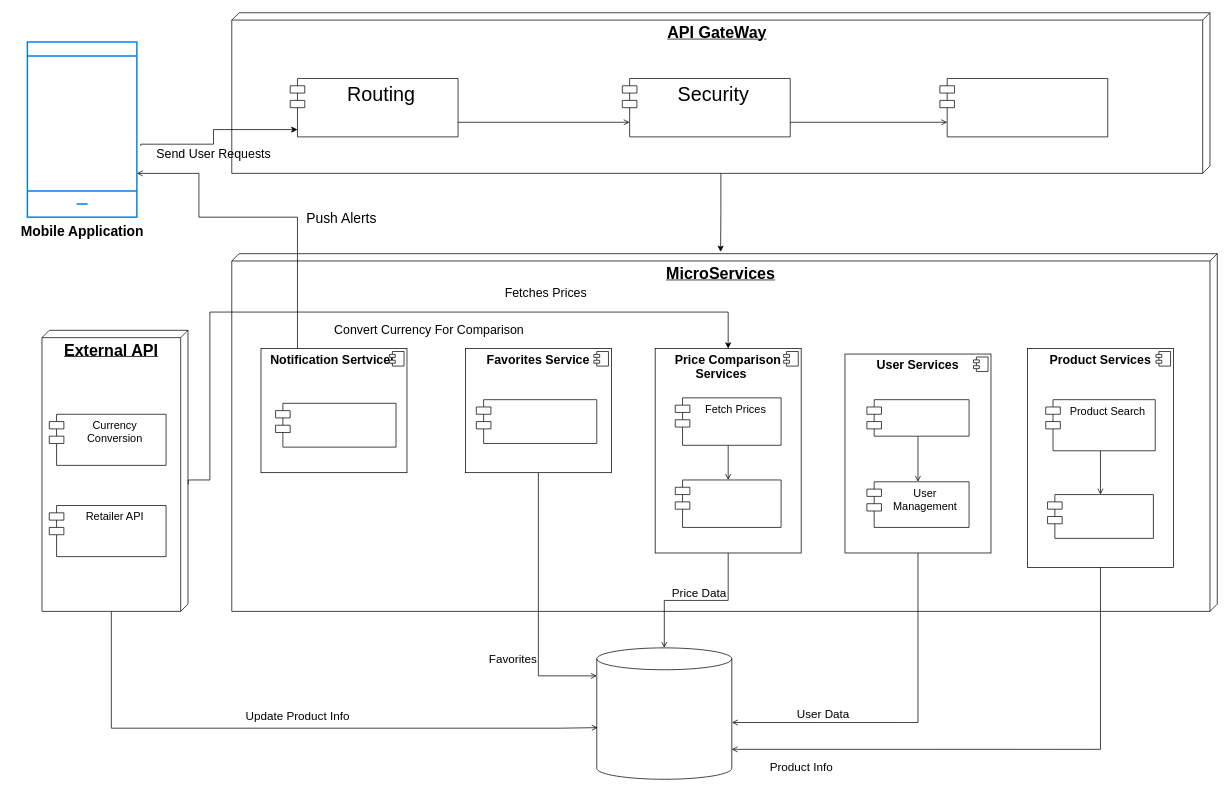
This 1230x792 diagram has some shape labels left out. Here are the shapes that lost their labels. From the top down, the centre of each, then its label:
the point at 1023,107: Rate Limiting
the point at 335,425: Send Notifications
the point at 536,421: Manage Favorites
the point at 917,417: Authentication
the point at 728,503: Compare Prices
the point at 1100,516: Product Details
the point at 664,713: SQL Database
